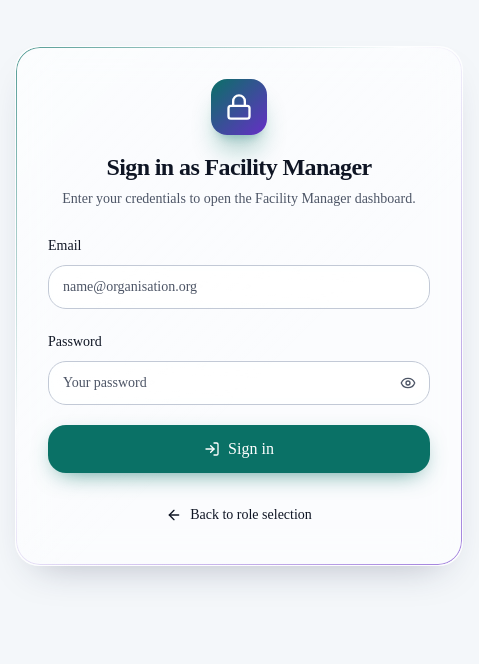
Test case: LoginPage › reports a network failure without navigating
Step 1. Type "officer@example.org" into the field labelled "Email" → (239, 287), box x1=48 y1=265 x2=430 y2=309
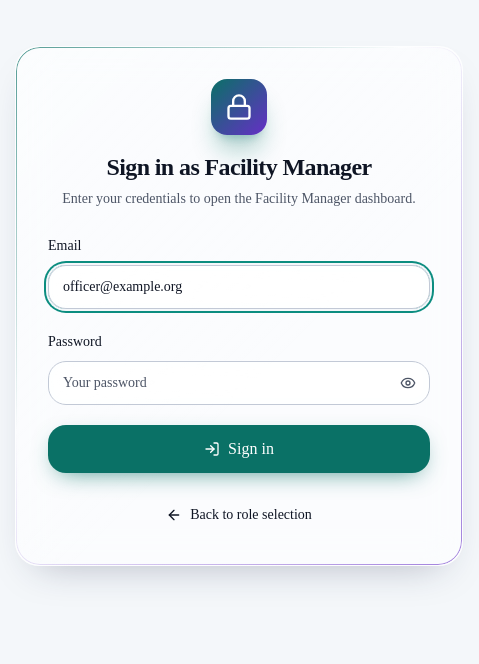
Step 2. Type "pw" into the password field labelled "Password" → (239, 383), box x1=48 y1=361 x2=430 y2=405
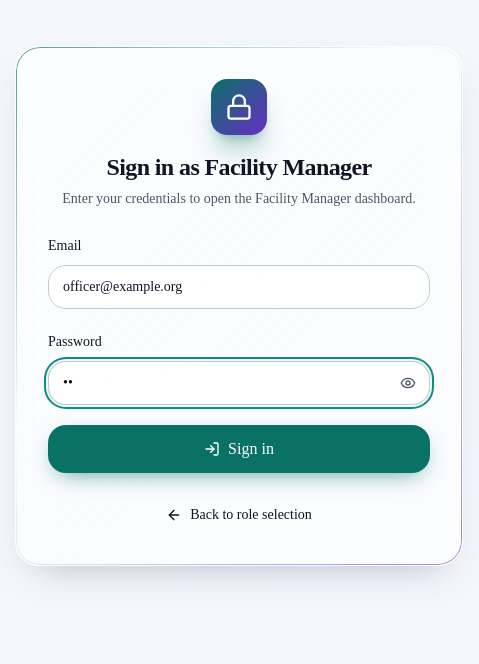
Step 3. Click the button "Sign in" → (239, 449), box x1=48 y1=425 x2=430 y2=473
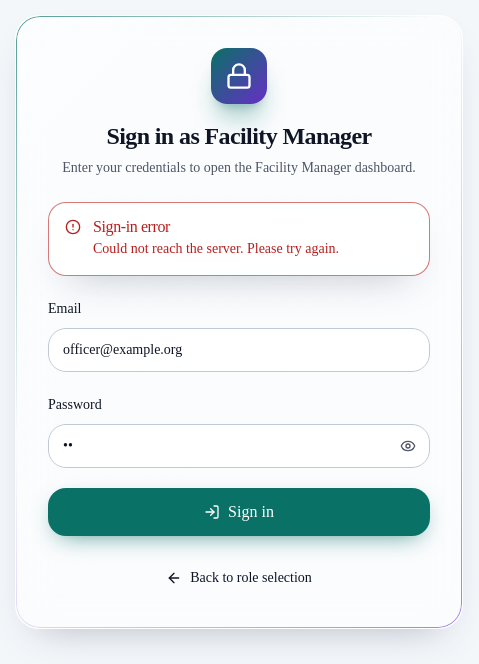
Check: the message shows "Could not reach the server", box x1=93 y1=241 x2=339 y2=256
